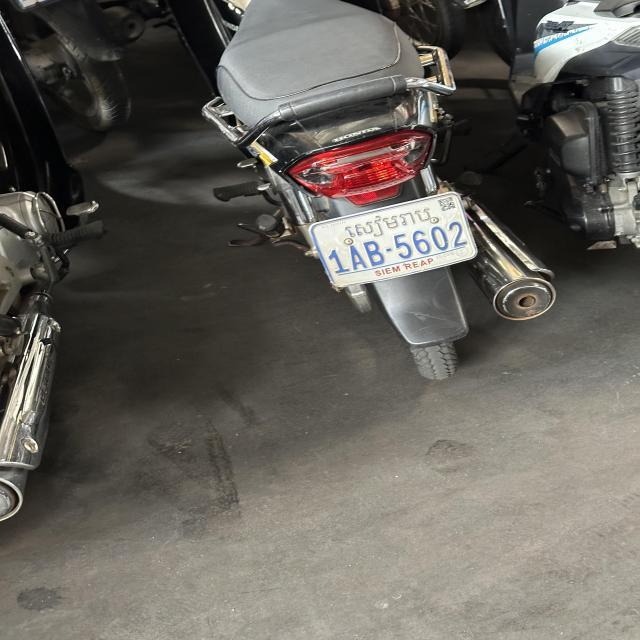Siem_Reap: (342, 207, 432, 238)
